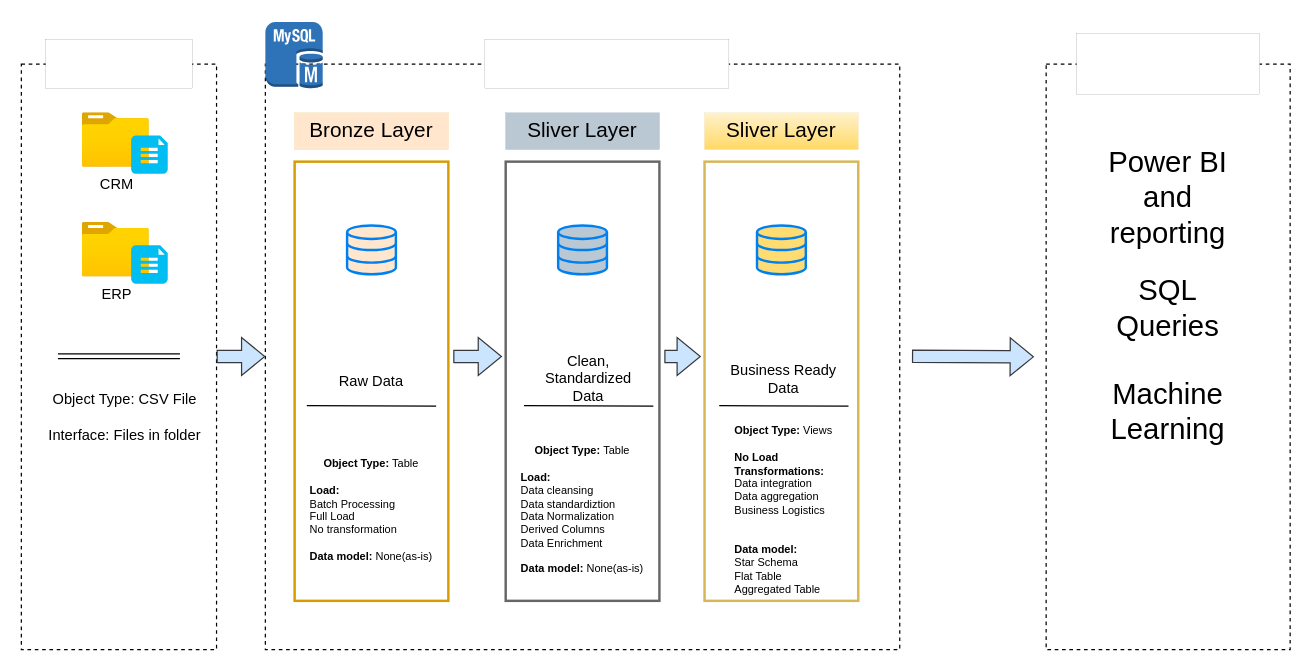
Image size: 1312x671. Some labels were removed from this diagram. The shapes that lost their labels are listed below. From the top down, each one's centre as x and y in pixels, then its label:
the point at 118,63: Sources
the point at 606,63: Datawarehouse
the point at 1167,63: Consume Layer
